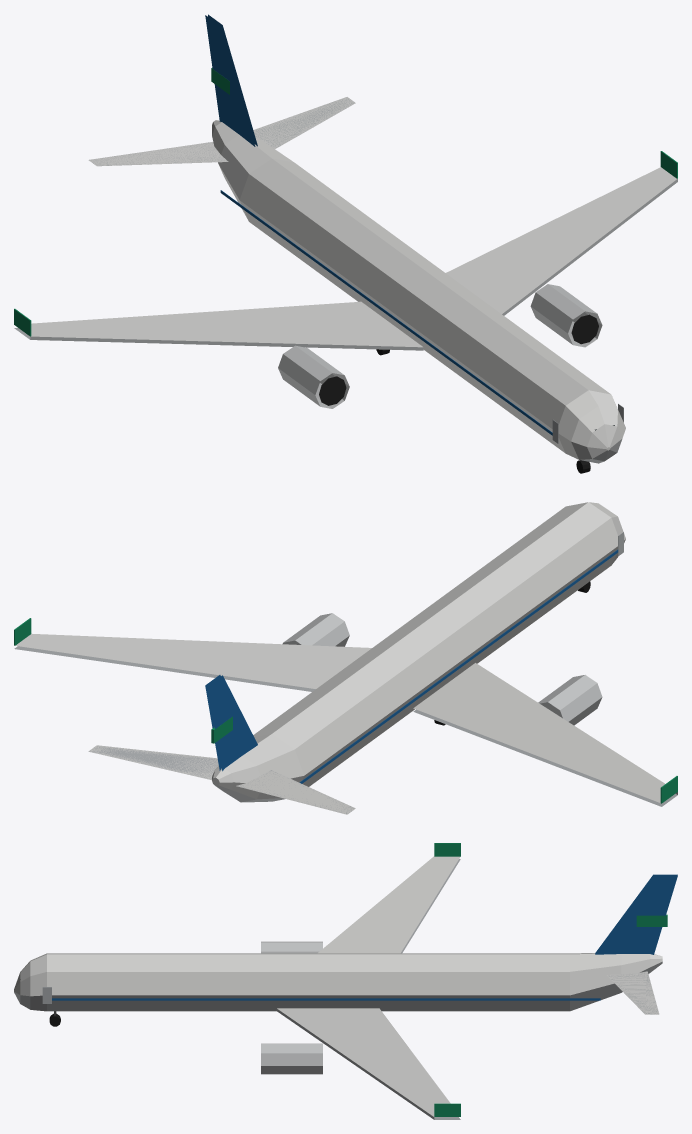
The model's file is ns_jet_wide_lod1.glb.
3 views of the same model, one above another, from view 1: azimuth 30°, elevation 25°; view 2: azimuth 150°, elevation 25°; view 3: azimuth 270°, elevation 25° (orthographic). The views are drawn at different scales.
Visible parts, largest first — view 1: ns_jet_wide_lod1; view 2: ns_jet_wide_lod1; view 3: ns_jet_wide_lod1.
Boxes of the visible parts, bbox=[...] form: ns_jet_wide_lod1: bbox=[14, 14, 677, 473]; ns_jet_wide_lod1: bbox=[14, 502, 677, 814]; ns_jet_wide_lod1: bbox=[14, 843, 677, 1119].
Bounding box in the file's own units: 60 × 16.07 × 64.5.
